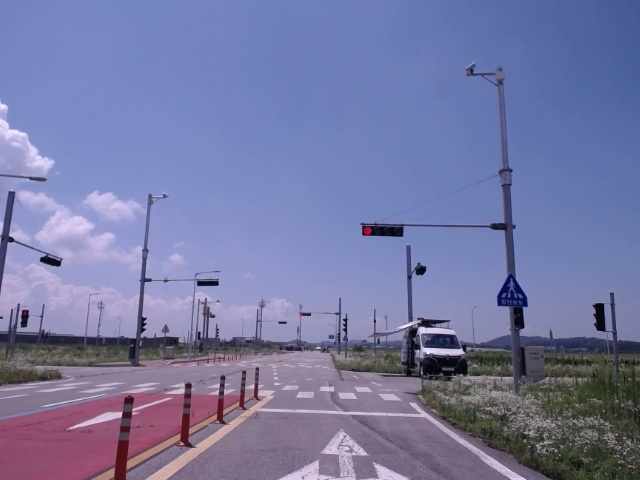red_4: (361, 226, 403, 236)
